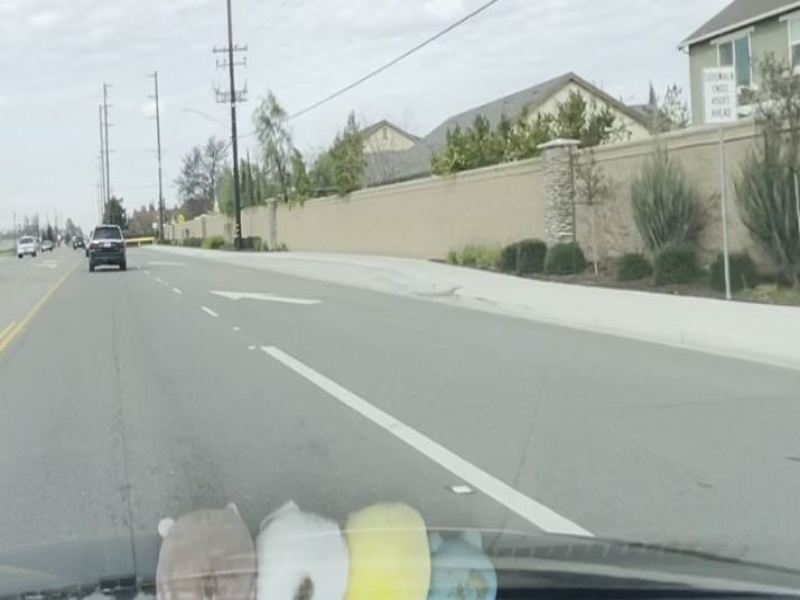merge sign: (696, 66, 742, 129)
